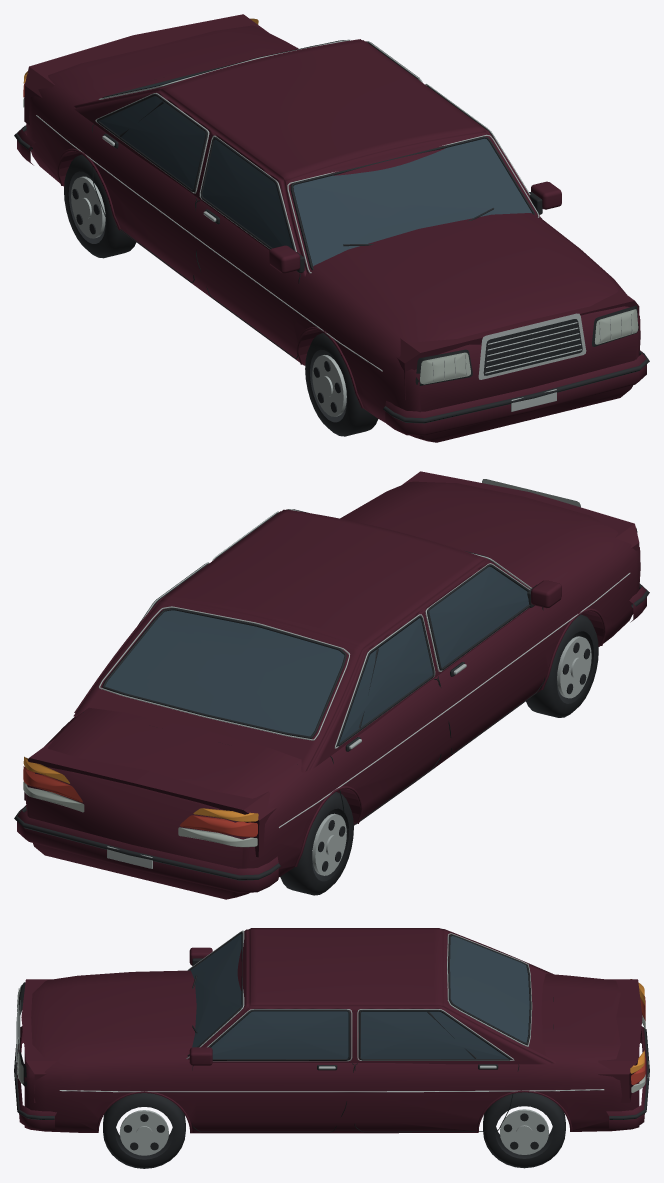
File: luxury_sedan.glb
3 views of the same model, one above another, from view 1: azimuth 30°, elevation 25°; view 2: azimuth 150°, elevation 25°; view 3: azimuth 270°, elevation 25° (orthographic). The views are drawn at different scales.
Visible parts, largest first — view 1: luxury_sedan shape study; view 2: luxury_sedan shape study; view 3: luxury_sedan shape study.
Part boxes in pixels (left/top/right/bottom): luxury_sedan shape study: left=14, top=14, right=649, bottom=442; luxury_sedan shape study: left=14, top=471, right=649, bottom=899; luxury_sedan shape study: left=14, top=928, right=649, bottom=1168.
Bounding box in the file's own units: 2.1 × 1.48 × 5.26.
